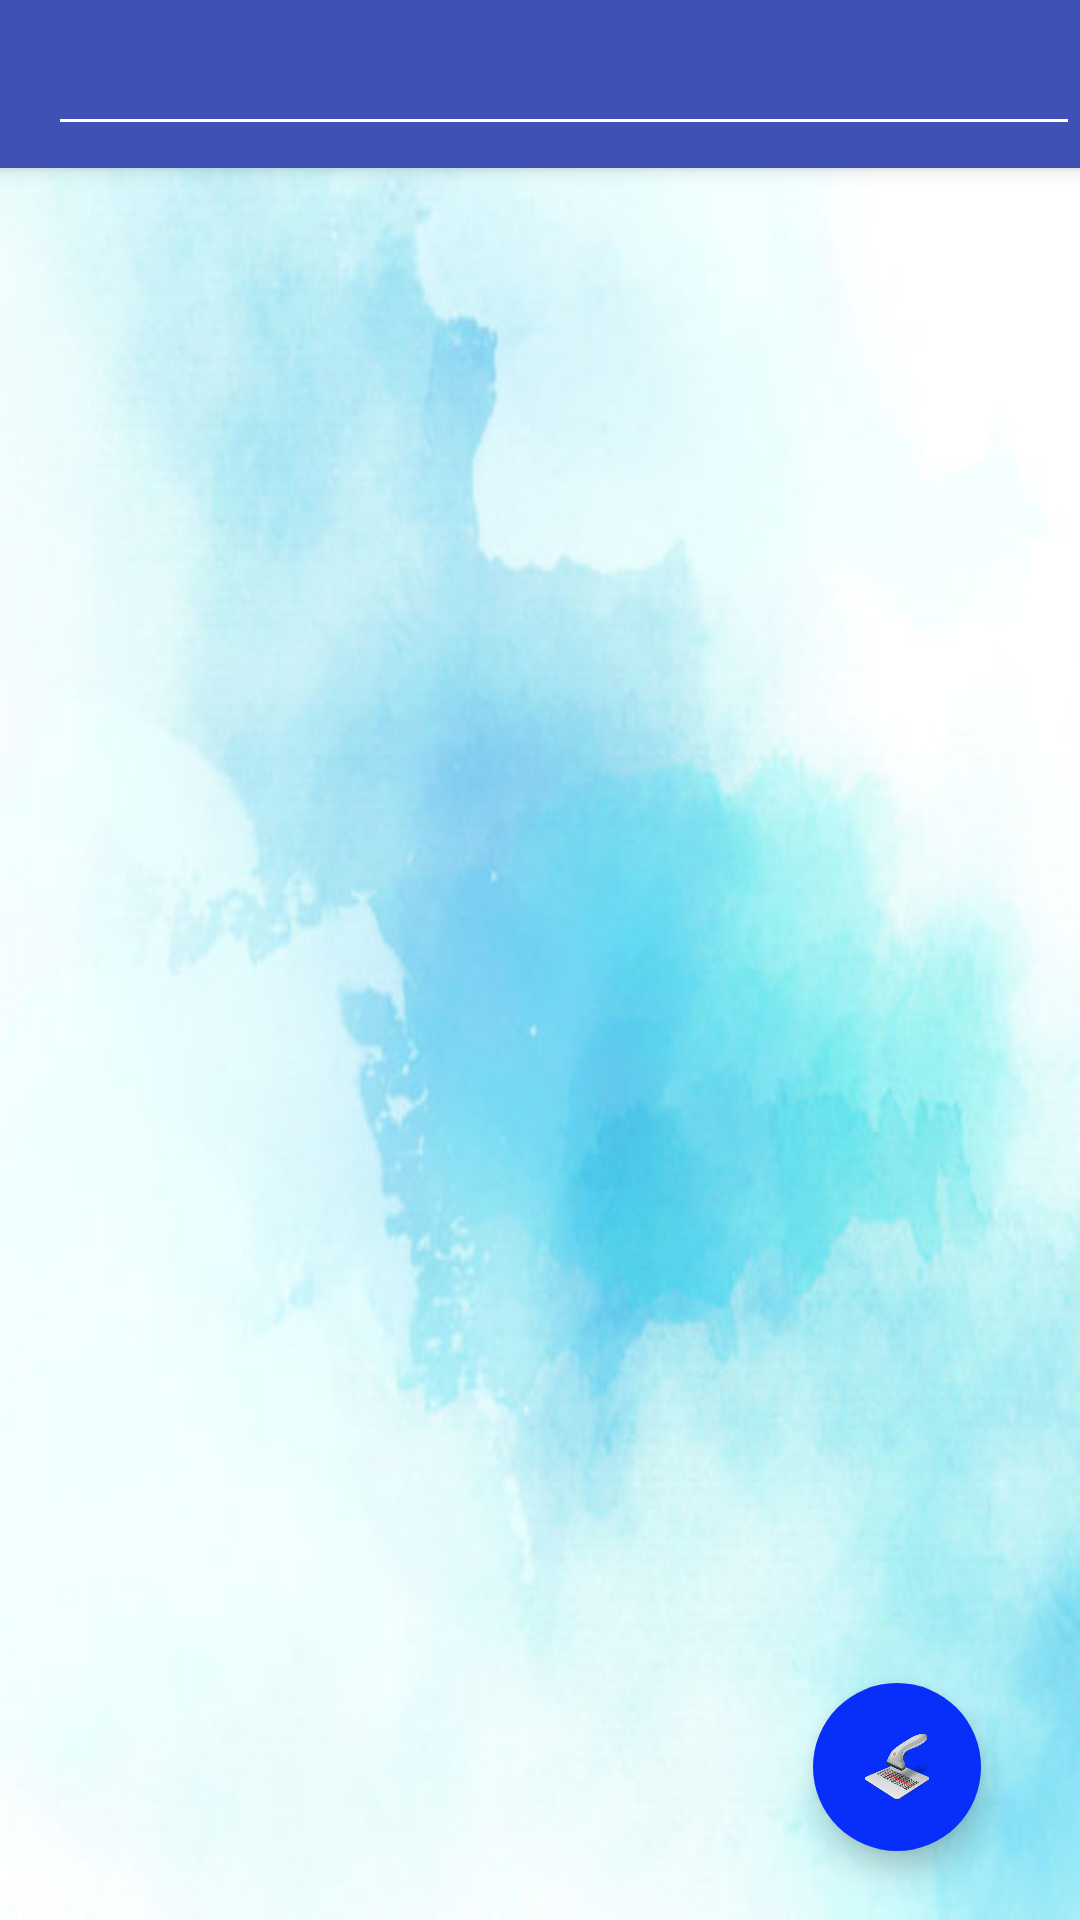

Screen size 1080*1920. Icon name, then its center in pixels as (x,y):
bar code: (897,1767)
